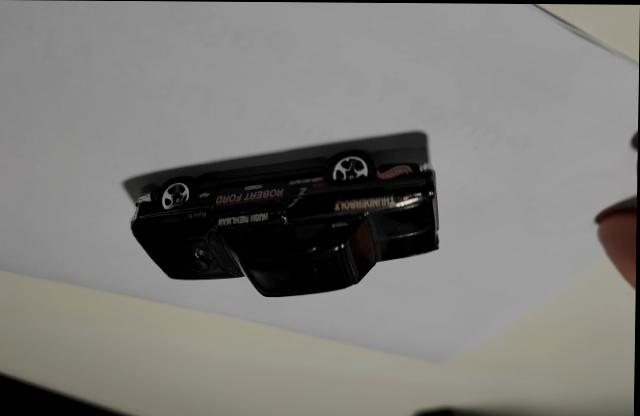01_FORD: (124, 129, 440, 296)
